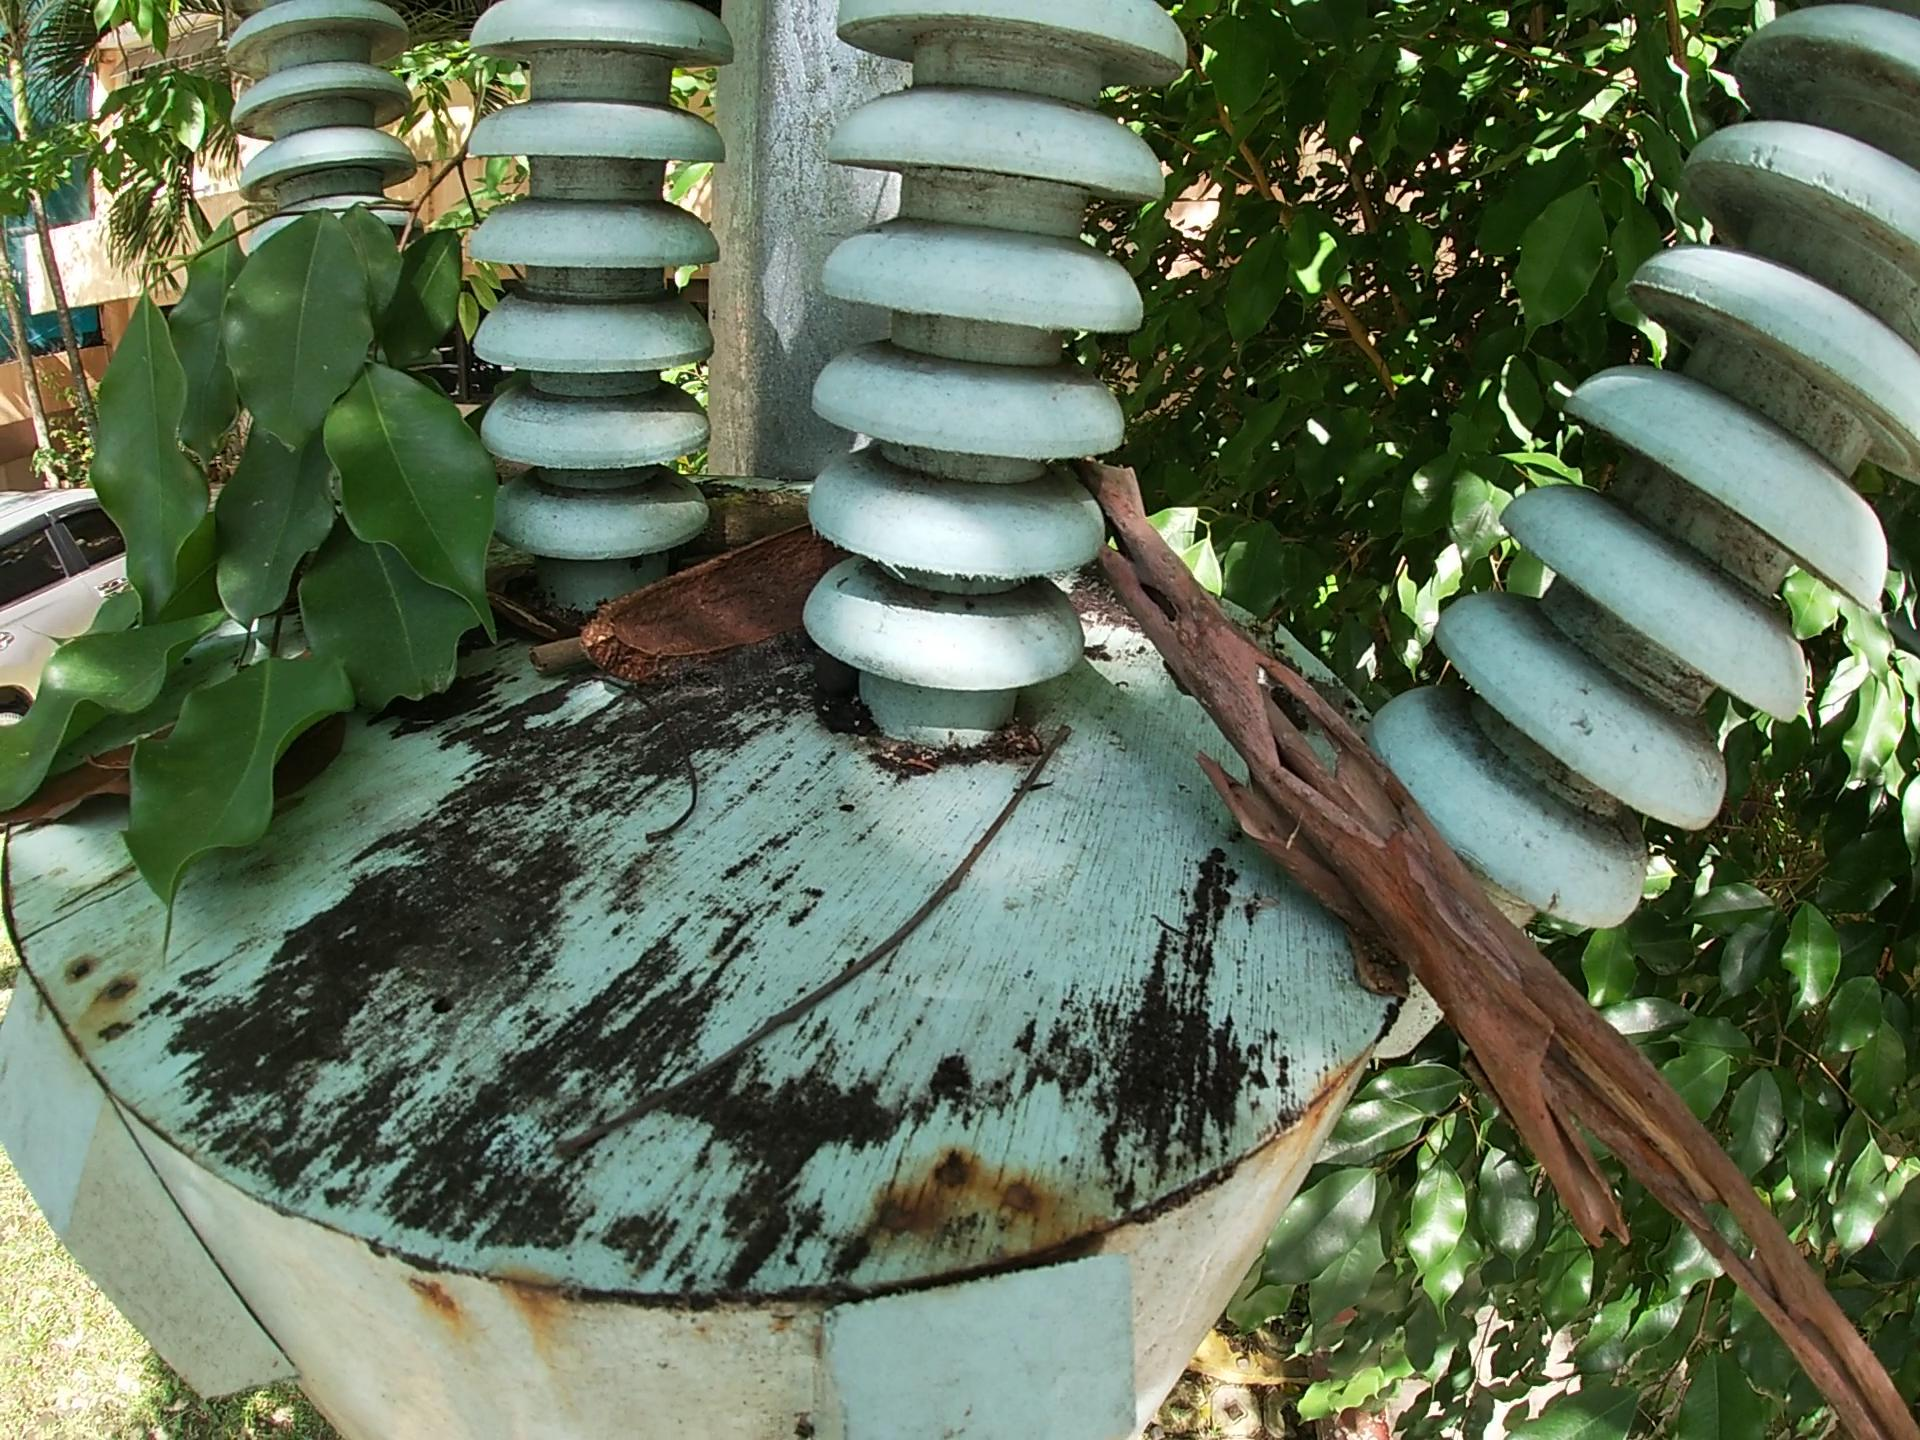branch with leaves: (2, 107, 505, 995)
leaf: (26, 764, 150, 843)
mahogany fruit: (553, 534, 875, 679)
tree branch: (1092, 458, 1915, 1435), (550, 735, 1101, 1162), (578, 679, 723, 853), (671, 484, 816, 563), (525, 638, 579, 679)
